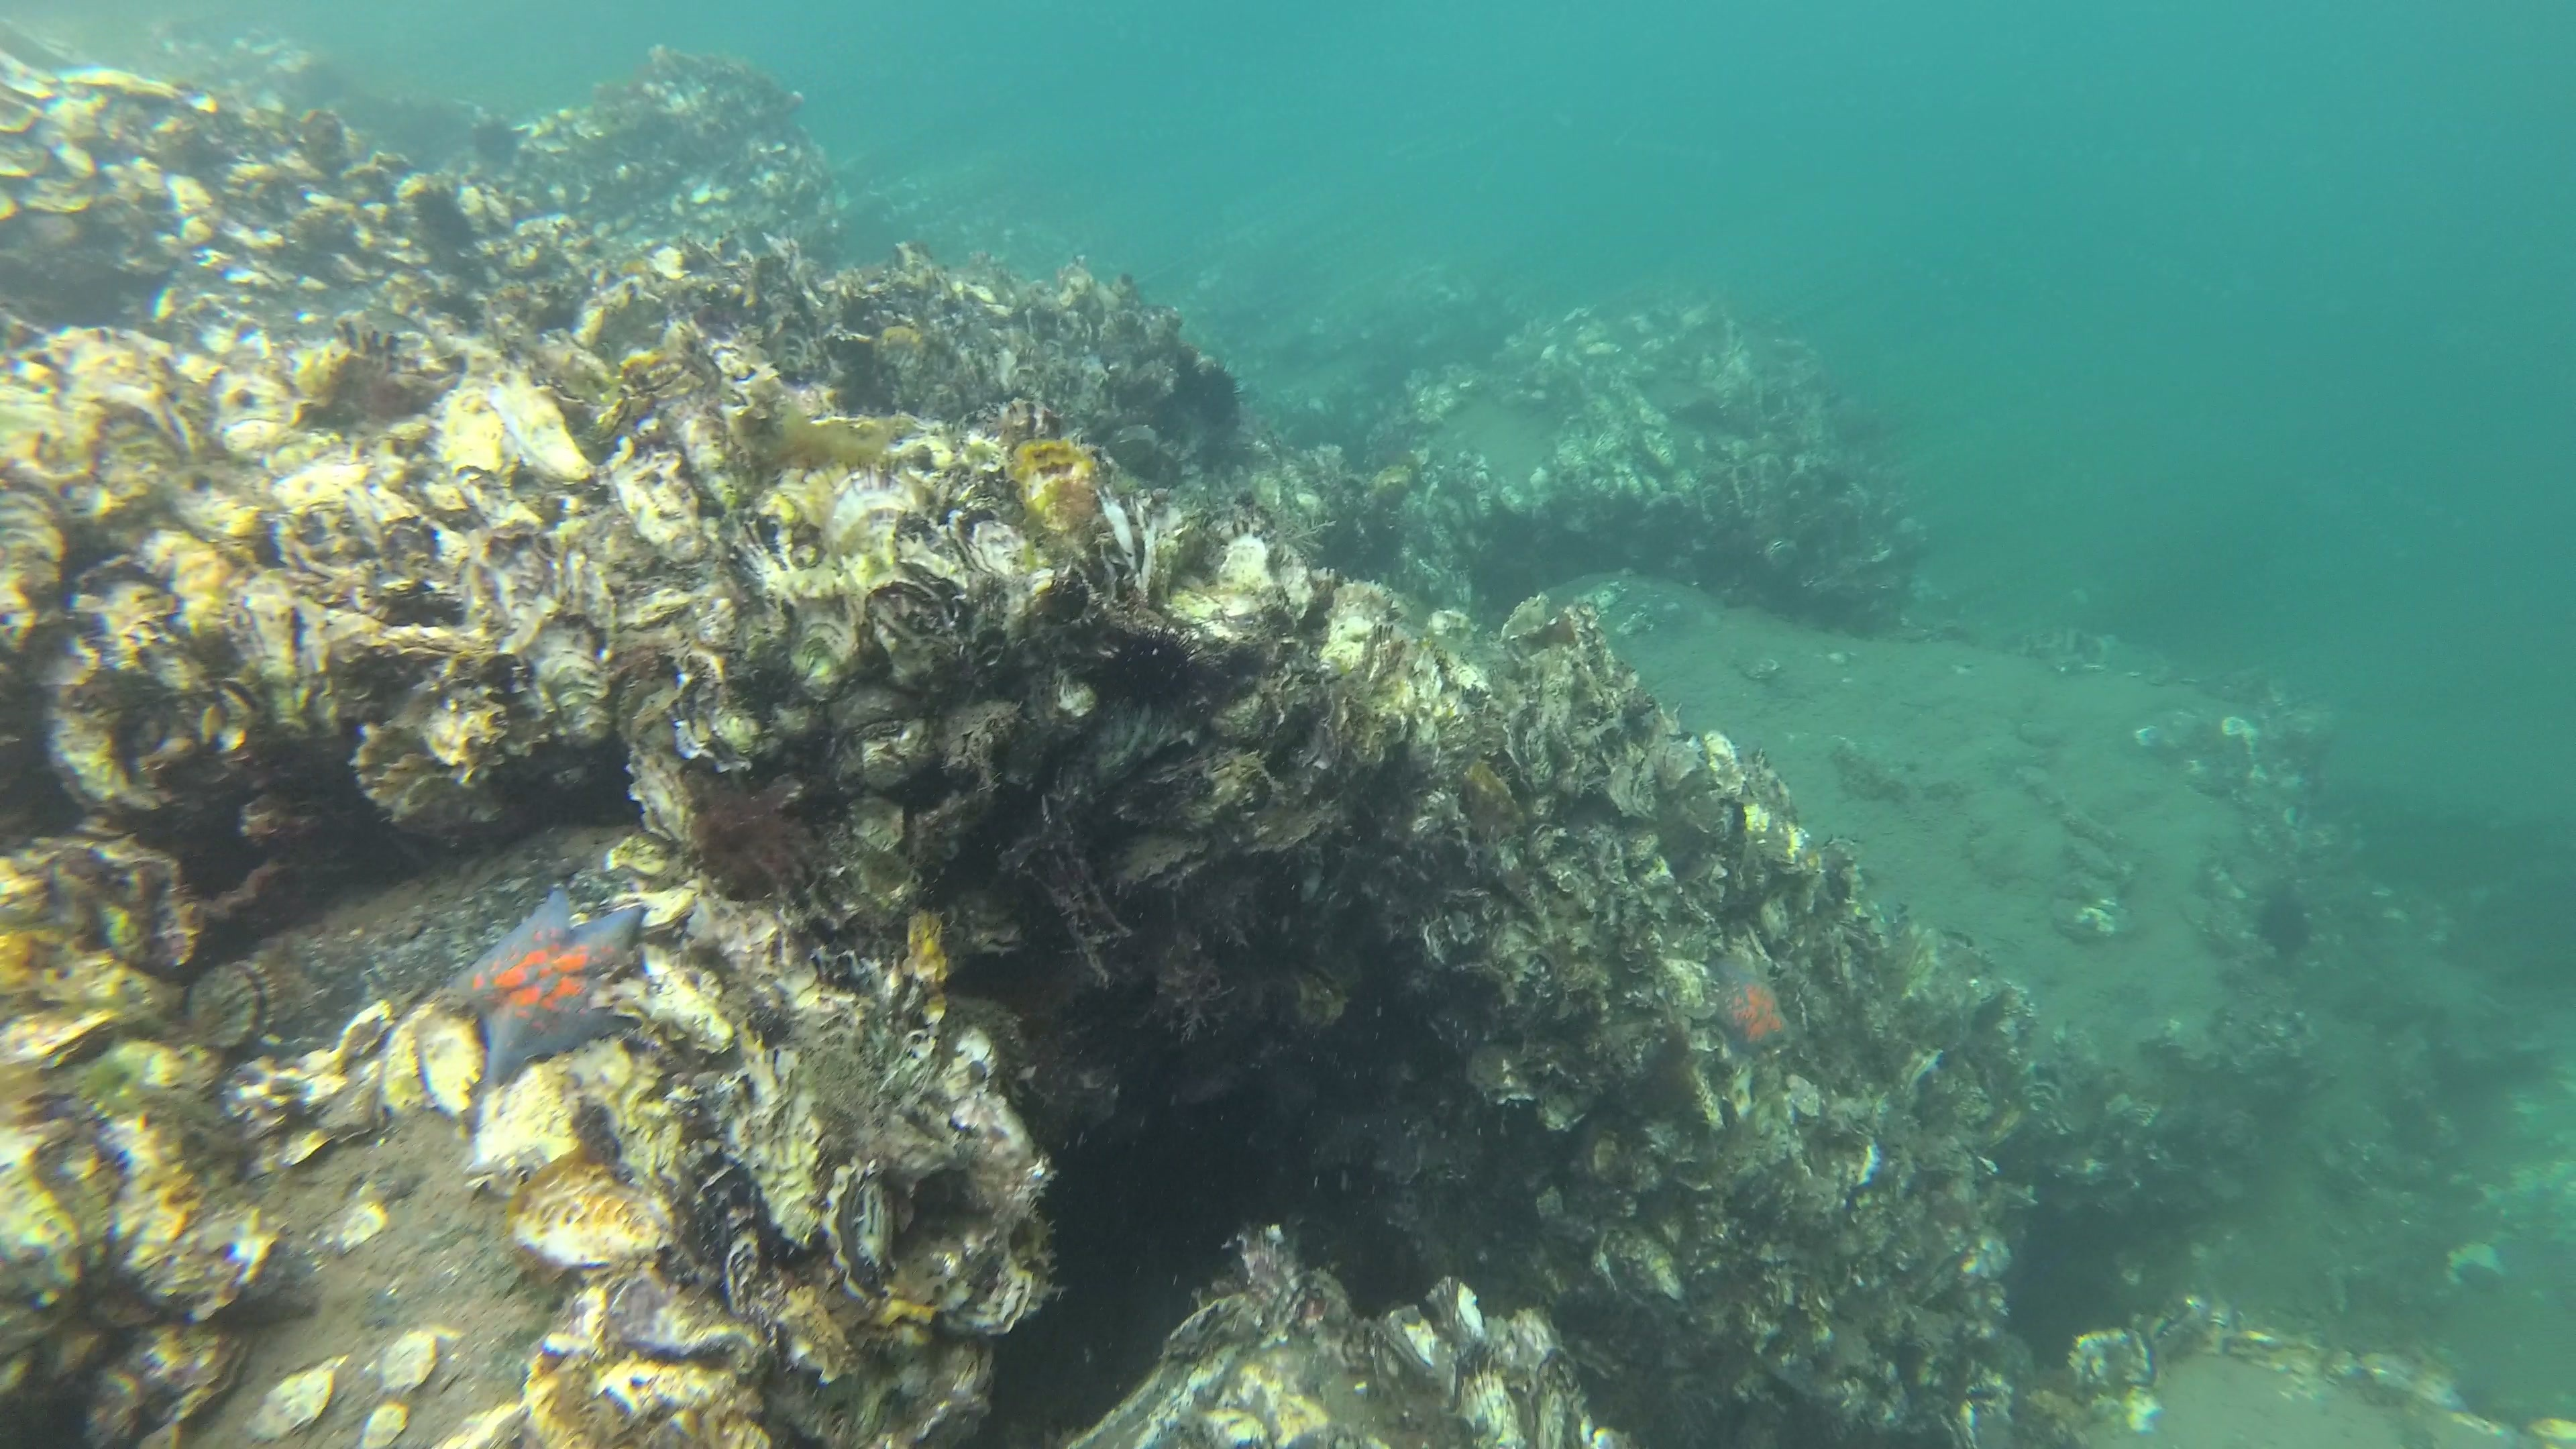echinus: (2247, 892, 2327, 970)
starfish: (428, 883, 667, 1097), (1702, 943, 1796, 1072)
